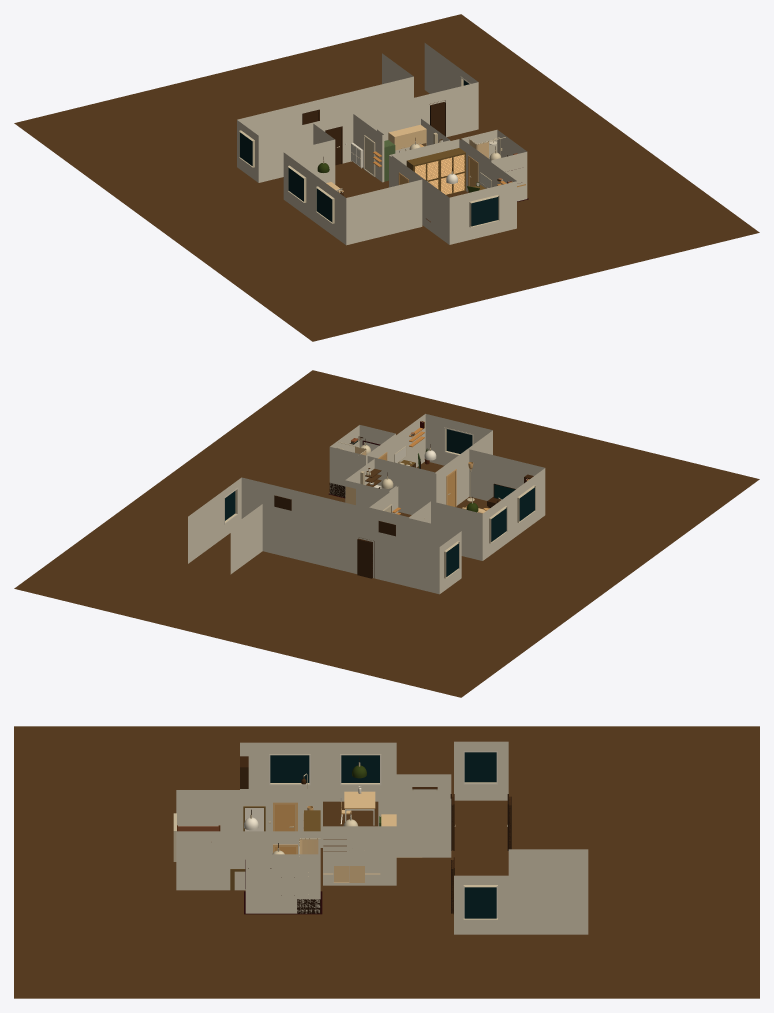
Rendered from apartment.fbx.
3 views of the same model, one above another, from view 1: azimuth 30°, elevation 25°; view 2: azimuth 150°, elevation 25°; view 3: azimuth 270°, elevation 25° (orthographic). The views are drawn at different scales.
Visible parts, largest first — view 1: floor, walls, window_3; view 2: floor, walls, window_3; view 3: floor, walls, window_2, window_4, window_1, window_5, kitchen_table, door_olo_mak.
Part boxes in pixels (x1,y1,x2,y2): floor: (14,14,759,341); walls: (237,43,527,245); window_3: (469,195,499,227); floor: (14,370,759,697); walls: (188,414,545,594); window_3: (444,427,473,455); floor: (14,726,759,998); walls: (176,741,588,934); window_2: (269,754,310,785); window_4: (463,885,497,919); window_1: (340,754,381,785); window_5: (463,751,497,784); kitchen_table: (344,791,375,825); door_olo_mak: (275,804,295,831).
Bounding box in the file's own units: 24.71 × 28.59 × 2.52.
